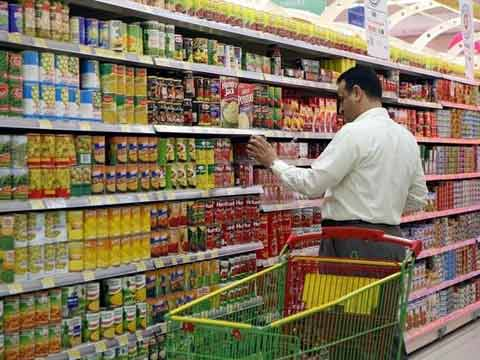Age_30_40: (334, 69, 384, 116)
E_Indian: (334, 69, 384, 116)
Emotion_Neutral: (334, 69, 384, 116)
G_Male: (334, 69, 384, 116)
